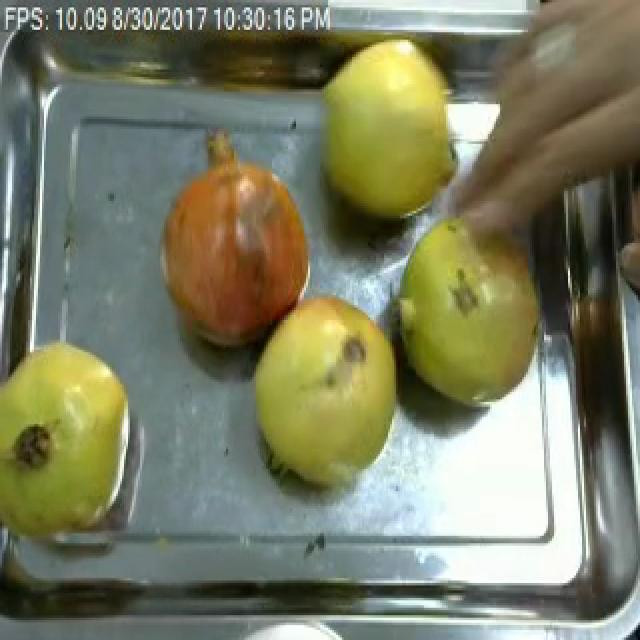fruit: (146, 136, 320, 364), (308, 22, 484, 240), (386, 198, 554, 420), (240, 285, 412, 501), (0, 322, 150, 566), (610, 206, 640, 322)
